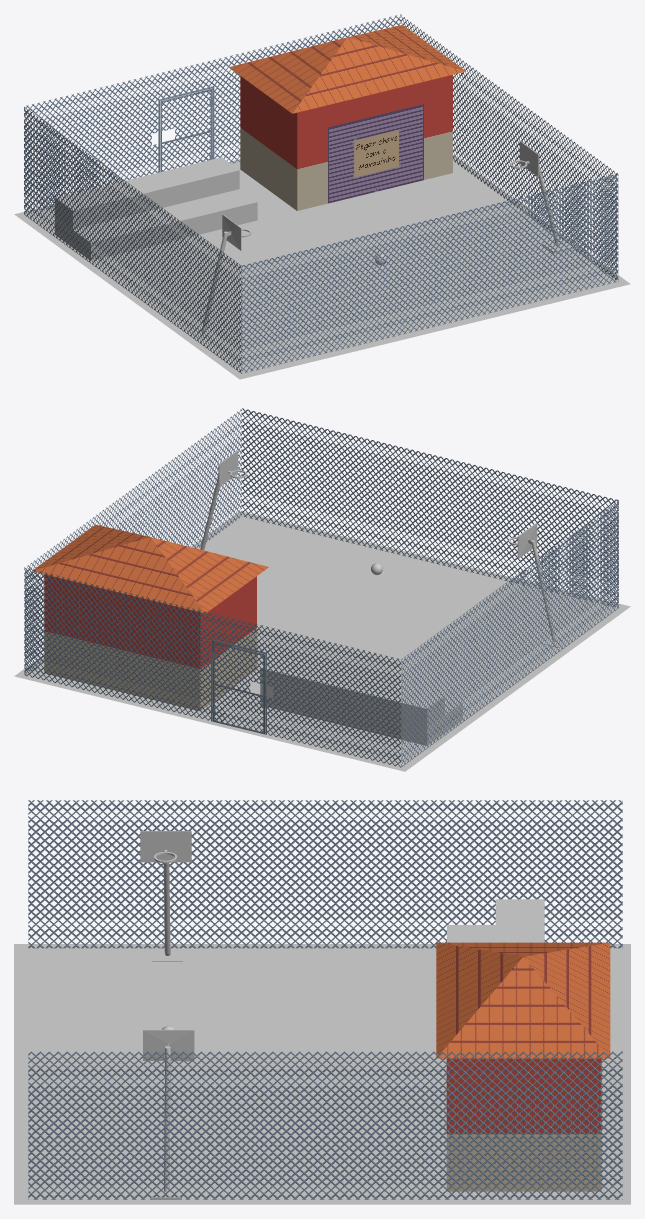
File: quadra.obj
The picture shows the model from 3 angles, top to bottom: view 1: azimuth 30°, elevation 25°; view 2: azimuth 150°, elevation 25°; view 3: azimuth 270°, elevation 25°; orthographic projection. The views are drawn at different scales.
Parts seen in each view (by area): view 1: grades_Cube.011, chão_Plane, galpao_Cube.002, banco_Cube.001, telhado_Cube.005, cesta2_Cylinder.002, cesta1_Cylinder; view 2: grades_Cube.011, chão_Plane, galpao_Cube.002, telhado_Cube.005, banco_Cube.001, cesta2_Cylinder.002, cesta1_Cylinder; view 3: grades_Cube.011, chão_Plane, telhado_Cube.005, galpao_Cube.002, banco_Cube.001, cesta2_Cylinder.002, cesta1_Cylinder.
Part boxes in pixels (bbox=[...]): grades_Cube.011: bbox=[24, 14, 618, 373]; chão_Plane: bbox=[14, 154, 630, 379]; galpao_Cube.002: bbox=[240, 75, 452, 210]; banco_Cube.001: bbox=[55, 157, 257, 260]; telhado_Cube.005: bbox=[229, 25, 465, 113]; cesta2_Cylinder.002: bbox=[188, 214, 251, 338]; cesta1_Cylinder: bbox=[510, 141, 573, 253]; grades_Cube.011: bbox=[24, 408, 618, 767]; chão_Plane: bbox=[14, 511, 630, 771]; galpao_Cube.002: bbox=[44, 575, 256, 710]; telhado_Cube.005: bbox=[32, 524, 268, 613]; banco_Cube.001: bbox=[260, 656, 462, 745]; cesta2_Cylinder.002: bbox=[508, 523, 569, 647]; cesta1_Cylinder: bbox=[196, 450, 247, 553]; grades_Cube.011: bbox=[28, 800, 622, 1199]; chão_Plane: bbox=[14, 944, 630, 1204]; telhado_Cube.005: bbox=[436, 942, 610, 1058]; galpao_Cube.002: bbox=[446, 1058, 601, 1191]; banco_Cube.001: bbox=[447, 899, 544, 942]; cesta2_Cylinder.002: bbox=[140, 831, 191, 961]; cesta1_Cylinder: bbox=[143, 1029, 194, 1199].
Size of what is drawn, in the model's own units: 40 by 13.12 by 40.
